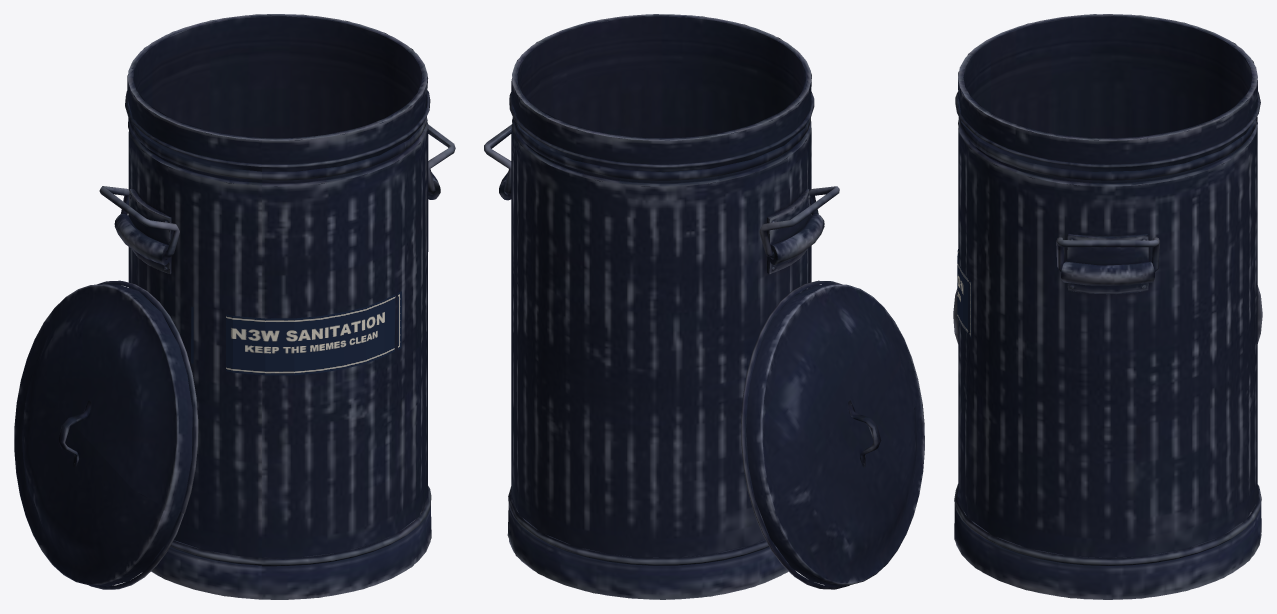
Rendered from isl_bin.glb.
3 renders of one model, left to right at view 1: azimuth 30°, elevation 25°; view 2: azimuth 150°, elevation 25°; view 3: azimuth 270°, elevation 25°, orthographic.
Visible parts, largest first — view 1: metal_trash_can_handle_left, stk_isl_dsny.png; view 2: metal_trash_can_handle_left; view 3: metal_trash_can_handle_left, stk_isl_dsny.png.
Part boxes in pixels (x1,y1,x2,y2): metal_trash_can_handle_left: (14, 14, 455, 599); stk_isl_dsny.png: (191, 291, 401, 375); metal_trash_can_handle_left: (484, 14, 924, 599); metal_trash_can_handle_left: (953, 14, 1262, 599); stk_isl_dsny.png: (957, 249, 971, 338).
Bounding box in the file's own units: 0.7785 × 0.9062 × 0.5554.
Materials: 2 (2 with a texture image).
